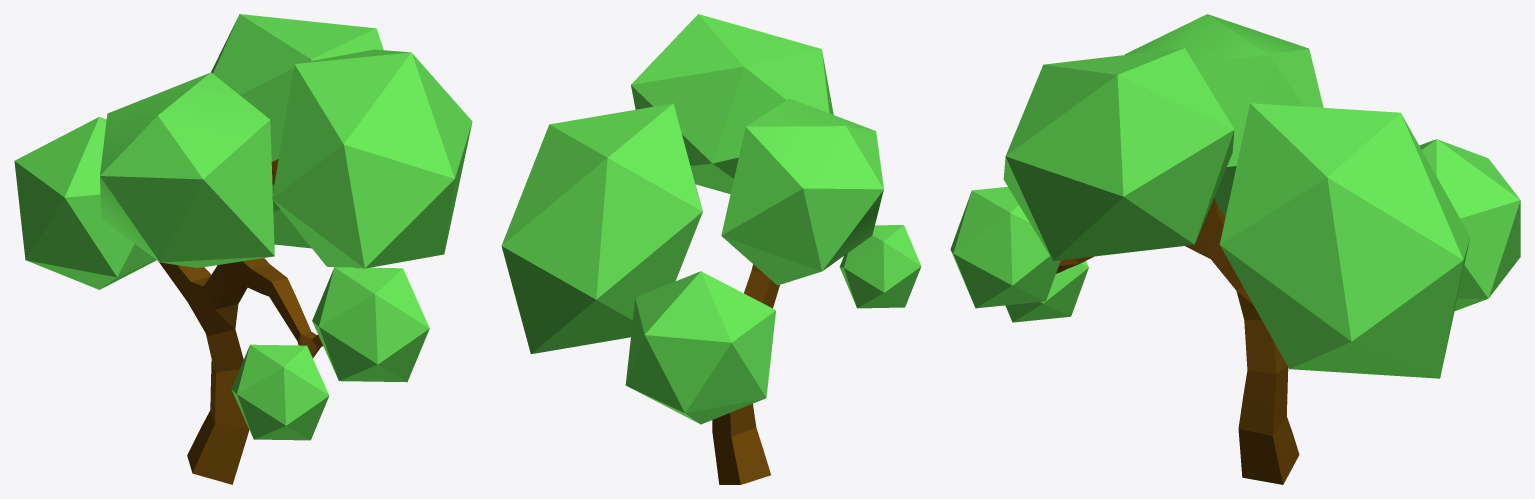
Rendered from TREE_2.fbx.
3 renders of one model, left to right at view 1: azimuth 30°, elevation 25°; view 2: azimuth 150°, elevation 25°; view 3: azimuth 270°, elevation 25°, orthographic. The views are drawn at different scales.
Visible parts, largest first — view 1: Icosphere; view 2: Icosphere; view 3: Icosphere.
Part boxes in pixels (x1,y1,x2,y2): Icosphere: (14,14,472,484); Icosphere: (501,14,921,484); Icosphere: (950,14,1520,484).
Bounding box in the file's own units: 738 × 856 × 956.
